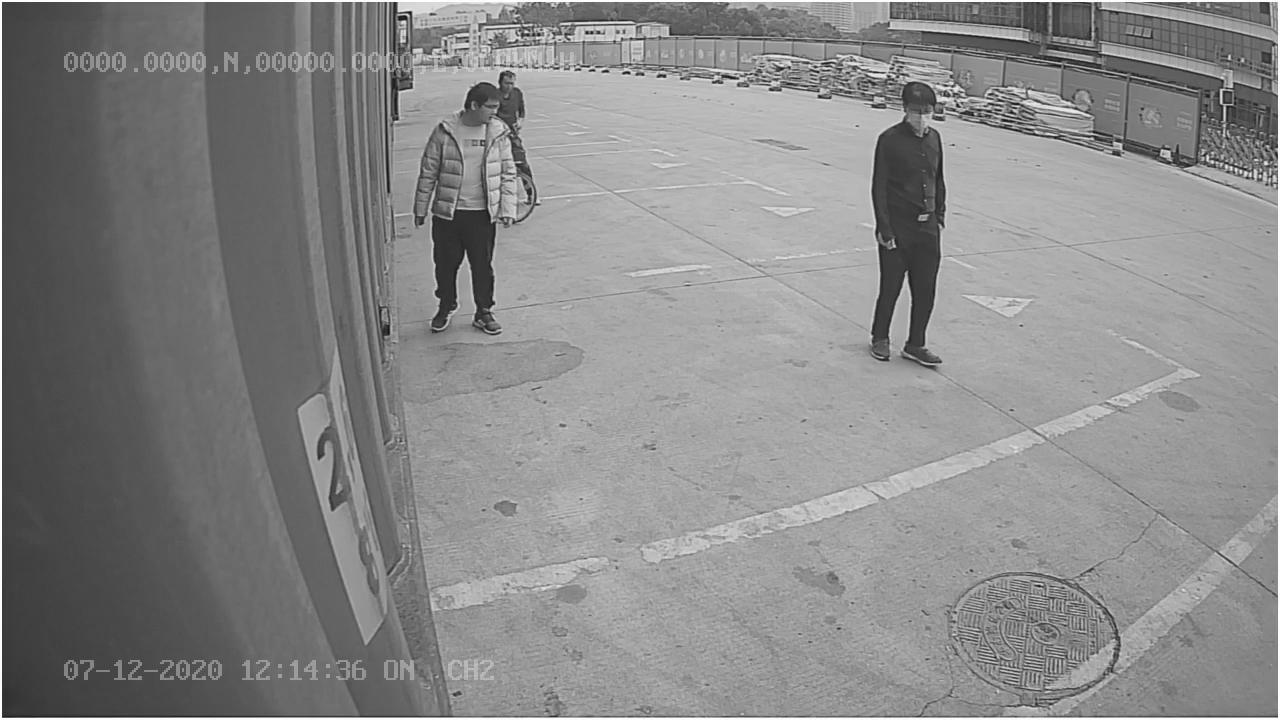person: (867, 80, 954, 368)
